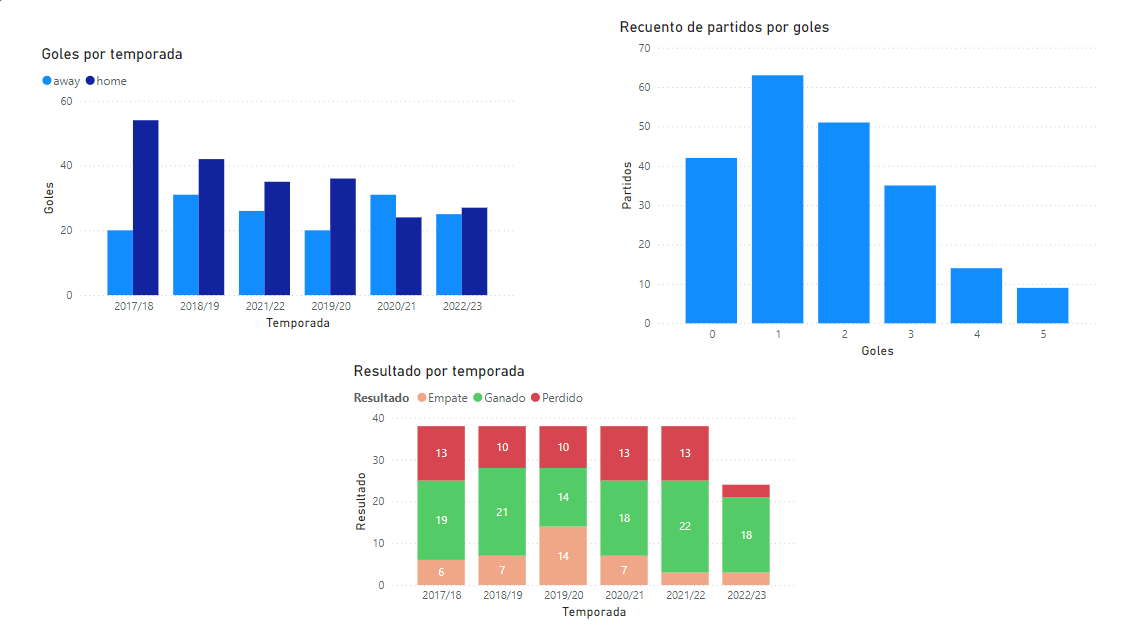

Layout of this report page (visuals, bound fields, positions):
{"tool":"powerbi","page":{"name":"Goles","canvas":[1280,720],"ordinal":0},"visuals":[{"type":"clusteredColumnChart","title":"Goles por temporada","fields":{"Y":["Sum(dwh dimarsenalmatches.ArsenalScore)"],"Category":["dwh dimarsenalmatches.Season"],"Series":["dwh dimarsenalmatches.HoAw"]},"box":[42.5,51.2,536.2,321.2],"z":0},{"type":"columnChart","title":"Recuento de partidos por goles","fields":{"Category":["dwh dimarsenalmatches.ArsenalScore"],"Y":["CountNonNull(dwh dimarsenalmatches.ArsenalScore)"]},"box":[684.4,21.1,540,382.2],"z":1000},{"type":"columnChart","title":"Resultado por temporada","fields":{"Y":["CountNonNull(dwh dimarsenalmatches.Resultado)"],"Series":["dwh dimarsenalmatches.Resultado"],"Category":["dwh dimarsenalmatches.Season"]},"box":[388.9,403.3,501.1,291.1],"z":2000}]}

Visuals, with their boxes in screenshot pixels (x1, y1, x2, y2), scaled from the page's 1280x720 canvas onto the 1145x641 screenshot:
"Goles por temporada" clusteredColumnChart: bbox=[38, 46, 518, 332]
"Recuento de partidos por goles" columnChart: bbox=[612, 19, 1095, 359]
"Resultado por temporada" columnChart: bbox=[348, 359, 796, 618]
